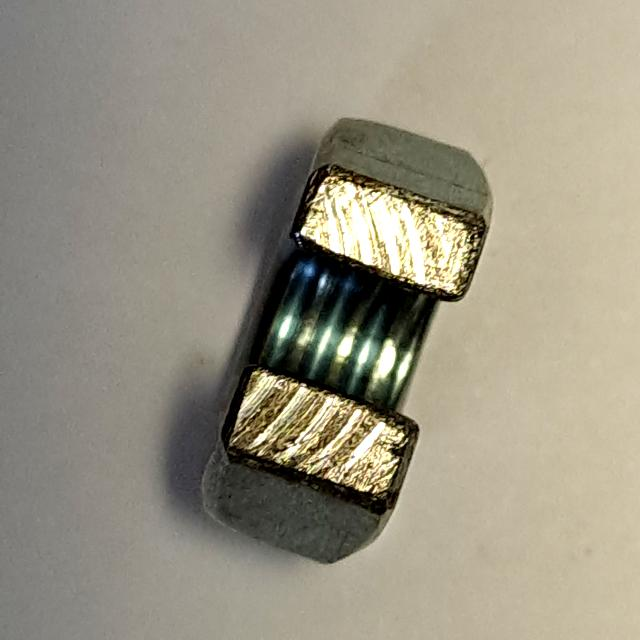Side-Fracture: (192, 94, 500, 579)
